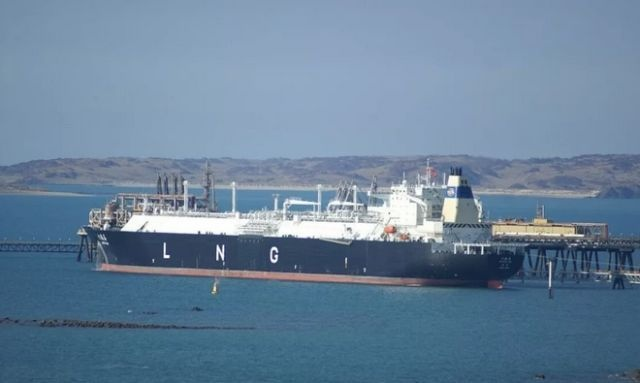Cargoship: (83, 155, 532, 284)
